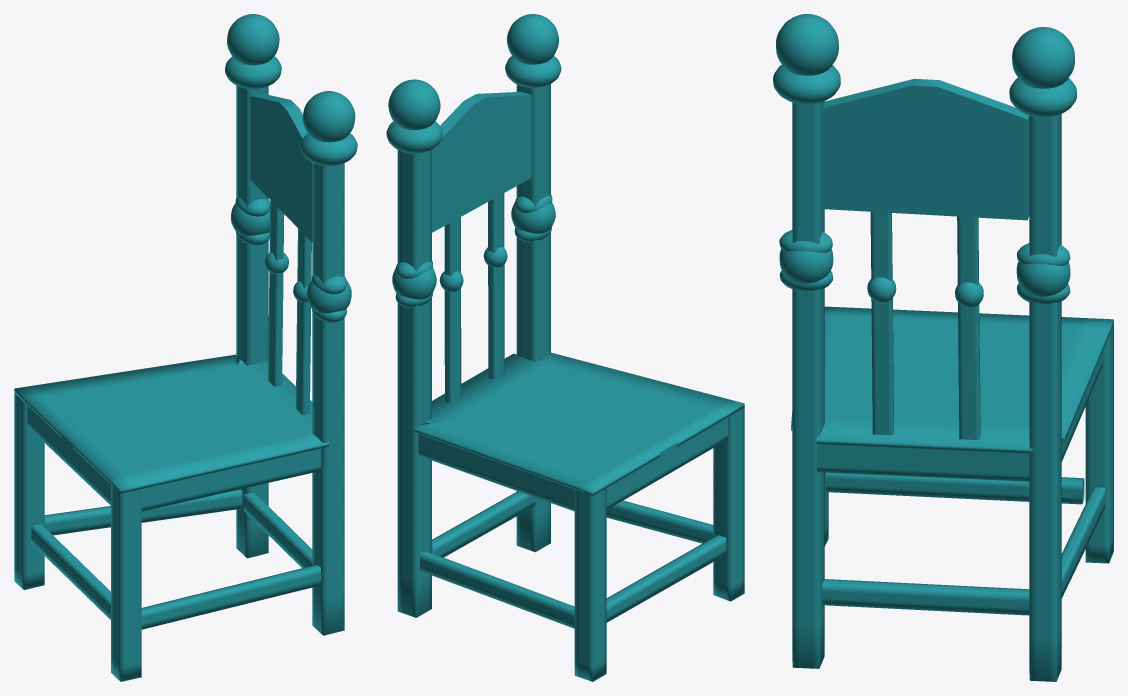
File: silla.obj
The picture shows the model from 3 angles, left to right: view 1: azimuth 30°, elevation 25°; view 2: azimuth 150°, elevation 25°; view 3: azimuth 270°, elevation 25°; orthographic projection. The views are drawn at different scales.
Visible parts, largest first — view 1: Upper_Link5; view 2: Upper_Link5; view 3: Upper_Link5.
Boxes of the visible parts, <box> form: Upper_Link5: <box>14,14,357,681</box>; Upper_Link5: <box>386,14,744,681</box>; Upper_Link5: <box>773,14,1113,681</box>.
Bounding box in the file's own units: 1.65 × 3.27 × 1.57.
1 material, 1 textured.
